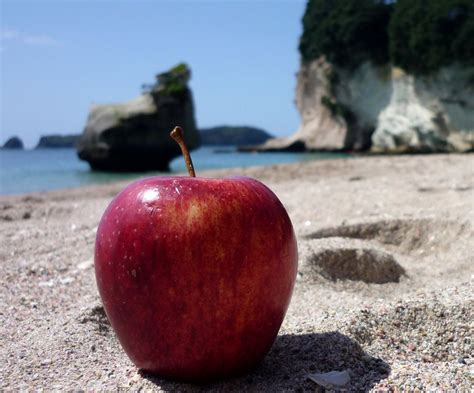apple: (91, 167, 307, 388)
